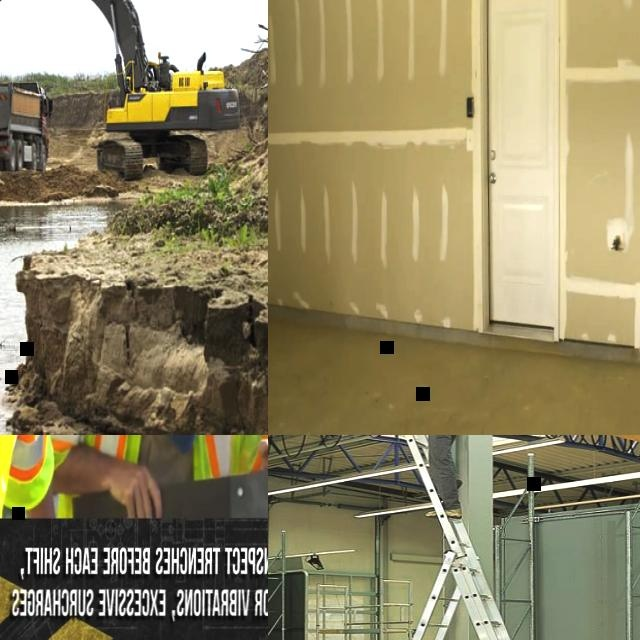Mask: (160, 435, 200, 453)
Person: (46, 435, 268, 518), (380, 435, 466, 519)
Safety Vest: (47, 435, 268, 483)
machinery: (0, 0, 240, 179), (0, 80, 54, 175)
